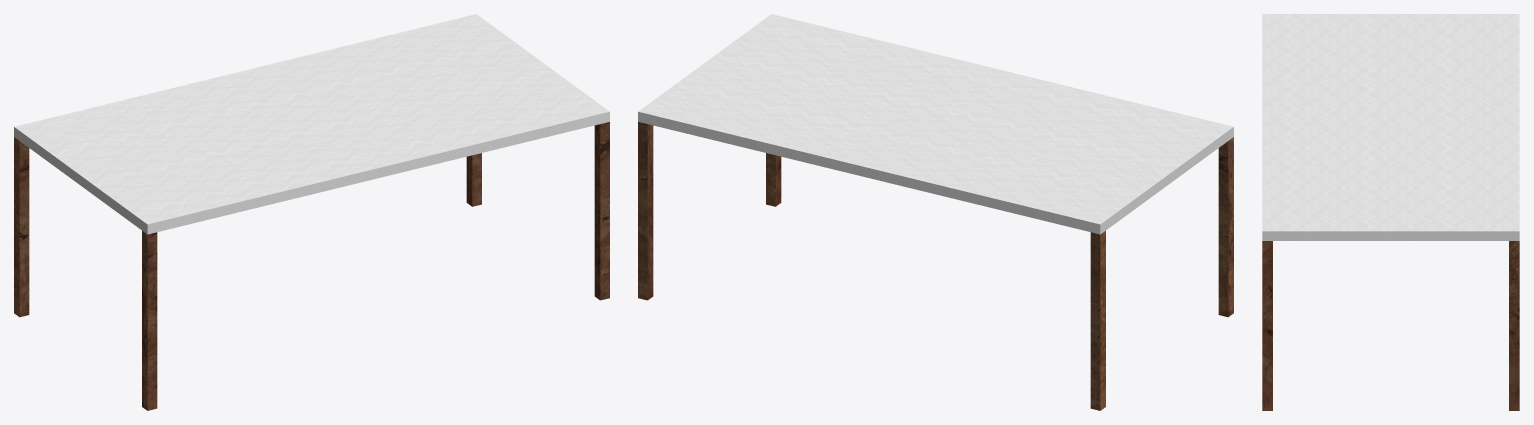
File: table.obj
3 views of the same model, side by side, from view 1: azimuth 30°, elevation 25°; view 2: azimuth 150°, elevation 25°; view 3: azimuth 270°, elevation 25° (orthographic). The views are drawn at different scales.
Parts seen in each view (by area): view 1: Table_Cube; view 2: Table_Cube; view 3: Table_Cube.
Part boxes in pixels (x1,y1,x2,y2): Table_Cube: (14, 14, 609, 410); Table_Cube: (638, 14, 1233, 410); Table_Cube: (1262, 14, 1519, 410).
Bounding box in the file's own units: 96 × 37 × 48.
2 materials, 2 textured.
